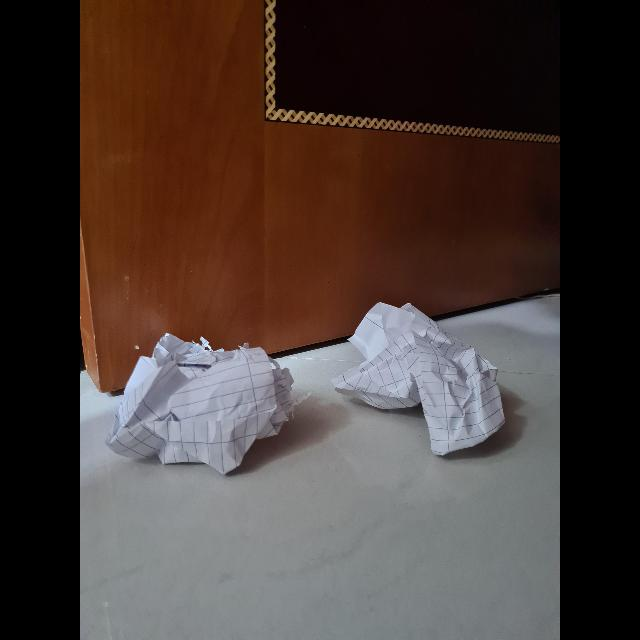scrap_paper: (339, 302, 505, 462), (111, 330, 289, 470)
